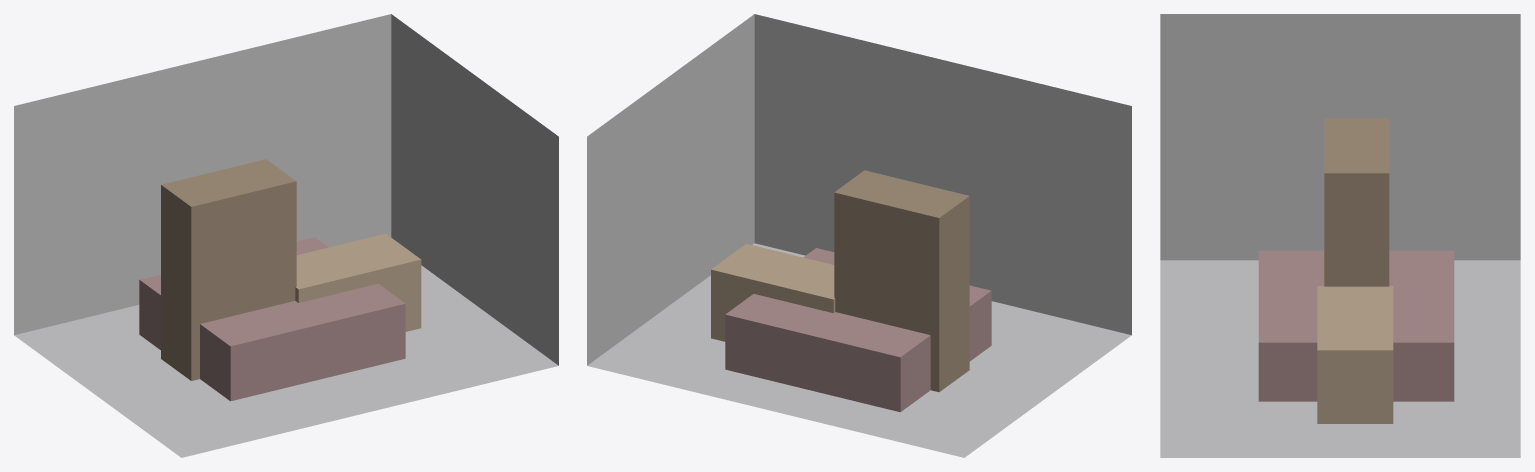
File: optimised_layout.glb
The picture shows the model from 3 angles, left to right: view 1: azimuth 30°, elevation 25°; view 2: azimuth 150°, elevation 25°; view 3: azimuth 270°, elevation 25°; orthographic projection. The views are drawn at different scales.
Visible parts, largest first — view 1: room, wardrobe, bed, desk; view 2: room, wardrobe, bed, desk; view 3: room, bed, wardrobe, desk.
Boxes of the visible parts, bbox=[...] form: room: bbox=[14, 14, 558, 457]; wardrobe: bbox=[161, 159, 296, 380]; bed: bbox=[139, 237, 405, 401]; desk: bbox=[295, 233, 421, 331]; room: bbox=[587, 14, 1131, 457]; wardrobe: bbox=[834, 170, 969, 392]; bed: bbox=[725, 248, 991, 412]; desk: bbox=[711, 243, 835, 341]; room: bbox=[1160, 14, 1520, 457]; bed: bbox=[1258, 250, 1454, 401]; wardrobe: bbox=[1324, 118, 1389, 286]; desk: bbox=[1317, 286, 1393, 423].
Size of the model in its own units: 4.31 by 2.5 by 3.31.
